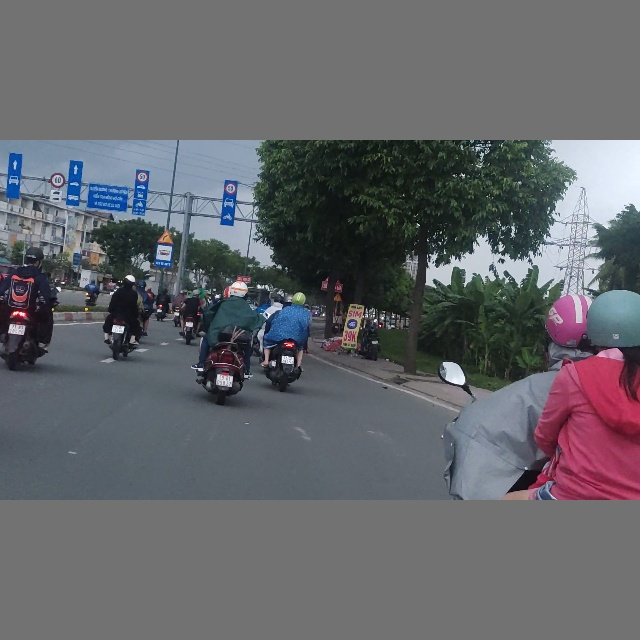I.434a: (154, 244, 173, 267)
P.127*50: (225, 183, 237, 195), (137, 171, 148, 183)
P.127*60: (50, 172, 65, 188)
S.505a*Xe tai va cong: (50, 189, 62, 202)
W.201b: (157, 230, 174, 245)
